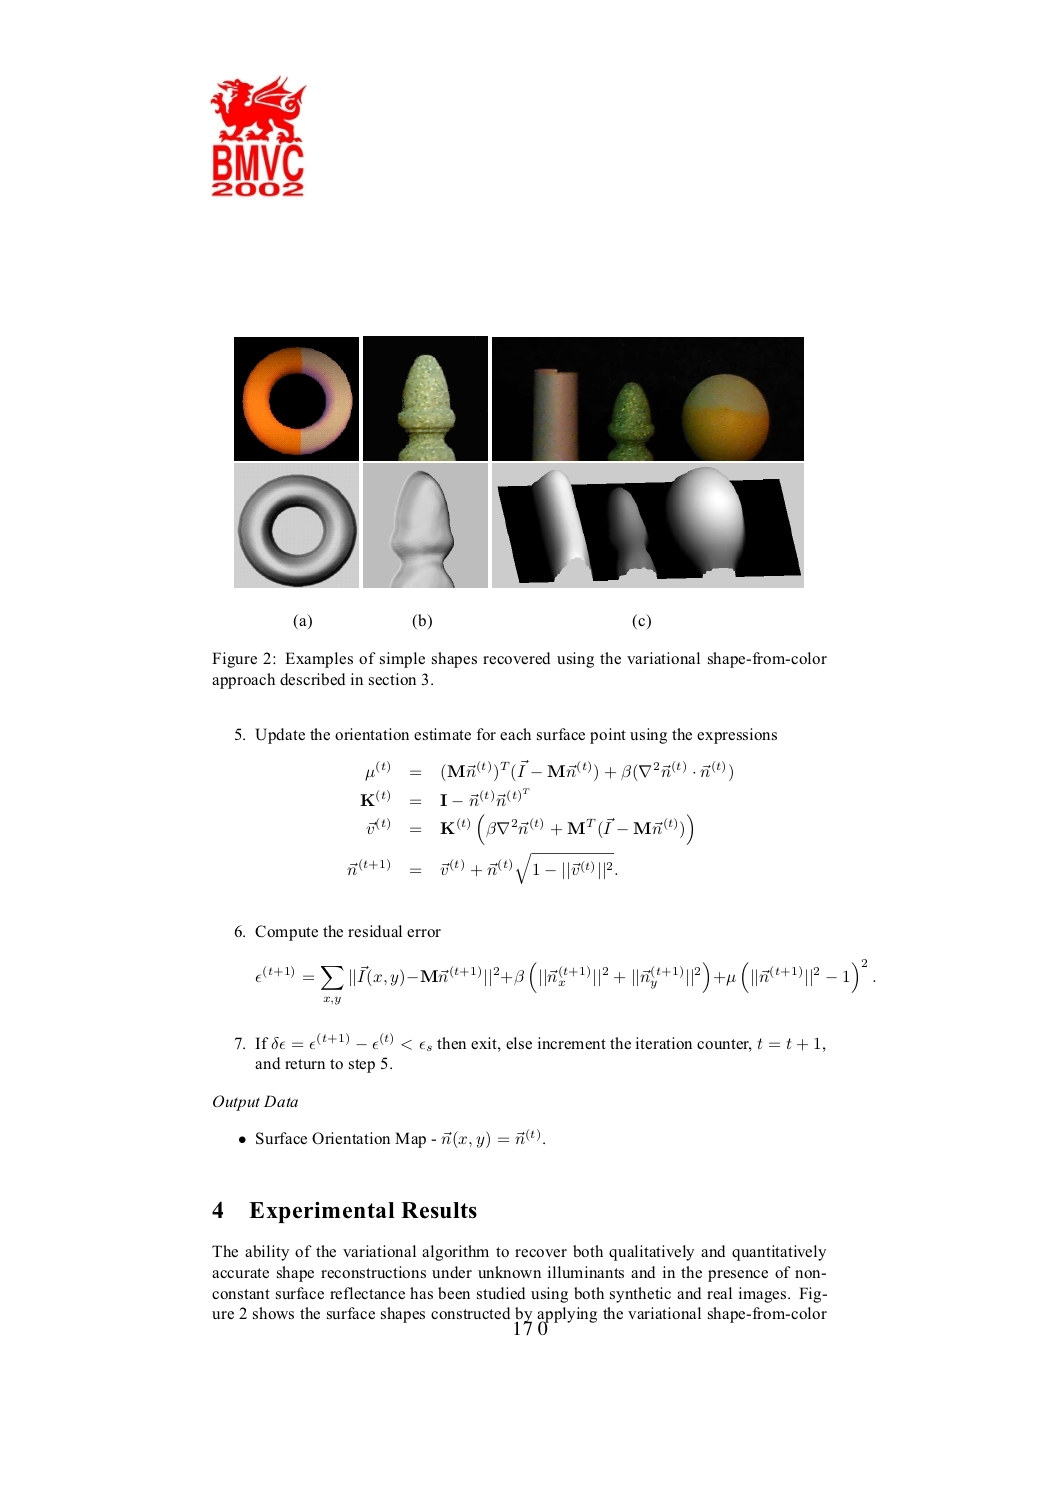figure: (487, 463, 803, 587), (491, 338, 803, 460), (363, 336, 487, 463), (234, 338, 358, 463), (363, 463, 487, 587), (234, 463, 357, 587), (210, 73, 305, 197)
formula: (255, 959, 875, 1005), (366, 812, 694, 845), (347, 852, 617, 884), (365, 759, 731, 782), (361, 788, 529, 807)
